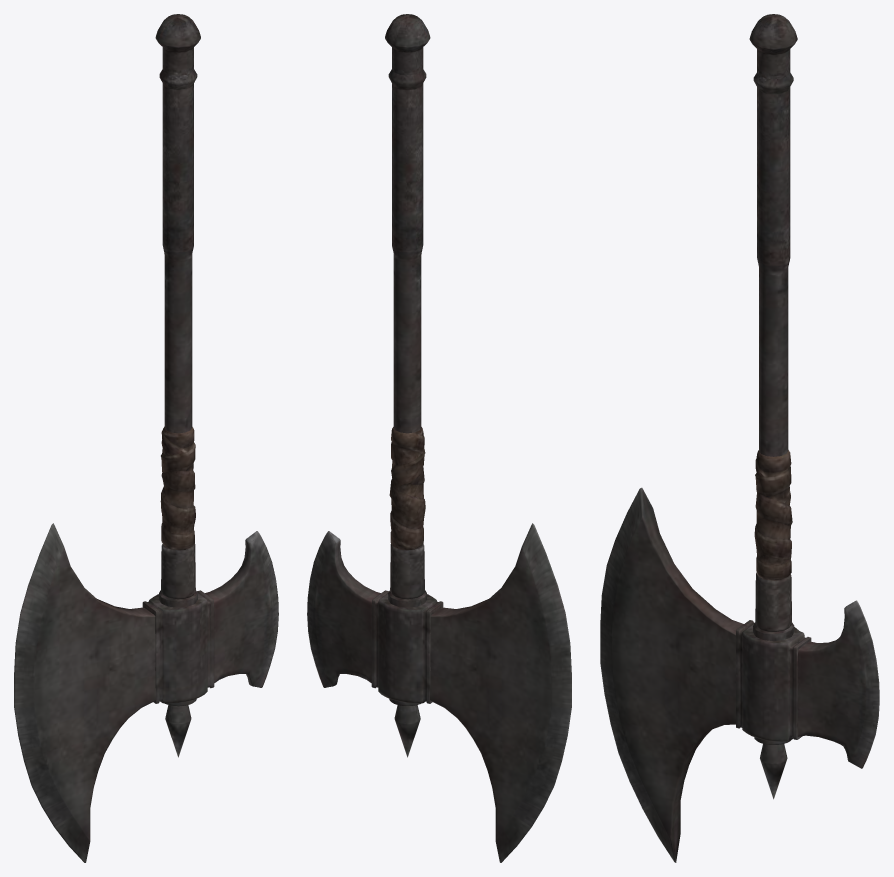
File: weapon-wp_a_0701.glb
The picture shows the model from 3 angles, left to right: view 1: azimuth 30°, elevation 25°; view 2: azimuth 150°, elevation 25°; view 3: azimuth 330°, elevation 25°; orthographic projection. The views are drawn at different scales.
Parts seen in each view (by area): view 1: wp_a_0701_mesh; view 2: wp_a_0701_mesh; view 3: wp_a_0701_mesh.
Boxes of the visible parts, x1=… form: wp_a_0701_mesh: x1=14, y1=14, x2=278, y2=862; wp_a_0701_mesh: x1=307, y1=14, x2=571, y2=862; wp_a_0701_mesh: x1=600, y1=14, x2=879, y2=862.
Size of the model in its own units: 0.3923 by 1.17 by 0.0596.
2 materials, 2 textured.
